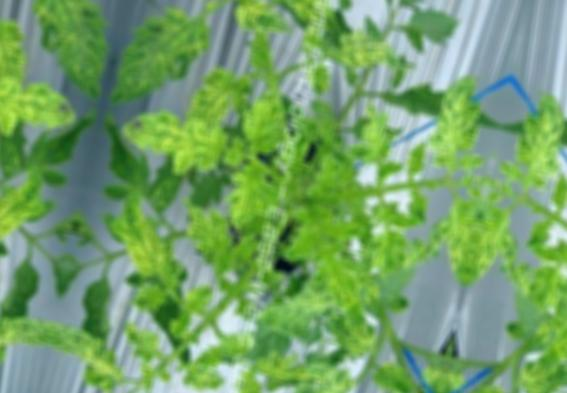Tomato leaf yellow virus: (104, 0, 221, 120), (280, 211, 385, 328), (95, 177, 188, 295), (415, 71, 501, 180), (118, 102, 233, 176), (421, 187, 484, 305), (42, 315, 137, 393), (173, 202, 261, 283), (315, 15, 392, 85), (267, 280, 344, 343), (183, 58, 247, 133), (218, 363, 355, 393), (236, 90, 290, 159), (220, 164, 274, 233), (349, 104, 400, 166), (229, 0, 296, 42), (172, 352, 227, 393), (348, 375, 414, 393), (131, 379, 209, 393), (317, 0, 402, 7)
